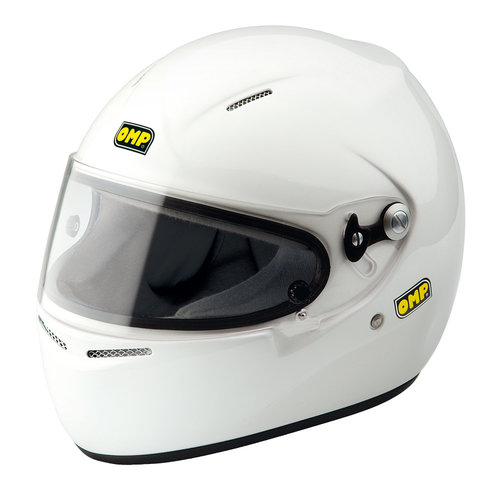helmet: (33, 36, 458, 448)
